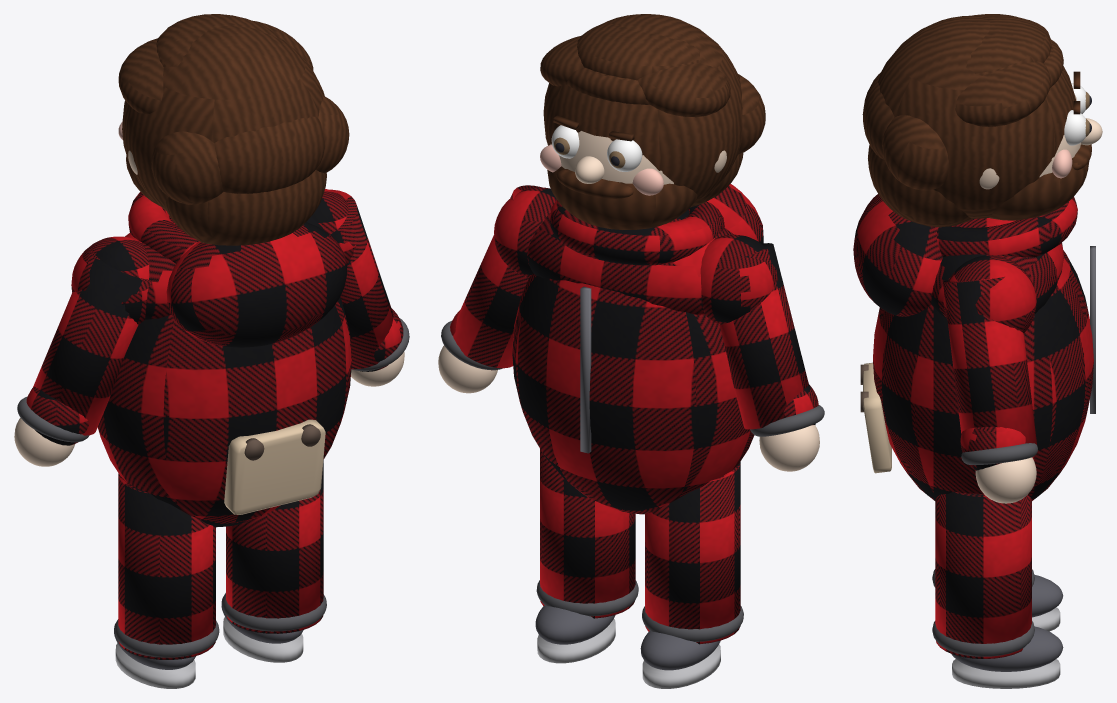
Rendered from plaid_hero.glb.
3 views of the same model, side by side, from view 1: azimuth 30°, elevation 25°; view 2: azimuth 150°, elevation 25°; view 3: azimuth 270°, elevation 25° (orthographic). The views are drawn at different scales.
Parts seen in each view (by area): view 1: HeroTorso, HeroHead, HeroLeftLeg, HeroLeftArm, HeroRightLeg, HeroRightArm; view 2: HeroTorso, HeroHead, HeroLeftLeg, HeroLeftArm, HeroRightLeg, HeroRightArm; view 3: HeroTorso, HeroHead, HeroRightLeg, HeroRightArm, HeroLeftLeg.
Boxes of the visible parts, x1,y1,x2,y2 form: HeroTorso: [97, 192, 351, 527]; HeroHead: [118, 14, 349, 245]; HeroLeftLeg: [114, 473, 219, 688]; HeroLeftArm: [14, 236, 151, 466]; HeroRightLeg: [221, 460, 326, 662]; HeroRightArm: [312, 189, 409, 386]; HeroTorso: [512, 183, 763, 514]; HeroHead: [540, 14, 765, 229]; HeroLeftLeg: [640, 462, 743, 688]; HeroLeftArm: [700, 234, 824, 471]; HeroRightLeg: [535, 449, 638, 663]; HeroRightArm: [438, 185, 556, 393]; HeroTorso: [853, 194, 1095, 500]; HeroHead: [862, 14, 1102, 227]; HeroRightLeg: [932, 491, 1063, 688]; HeroRightArm: [943, 255, 1037, 503]; HeroLeftLeg: [932, 569, 1063, 631].
Size of the model in its own units: 1.35 by 2.14 by 0.7747.
Materials: 15 (2 with a texture image).
